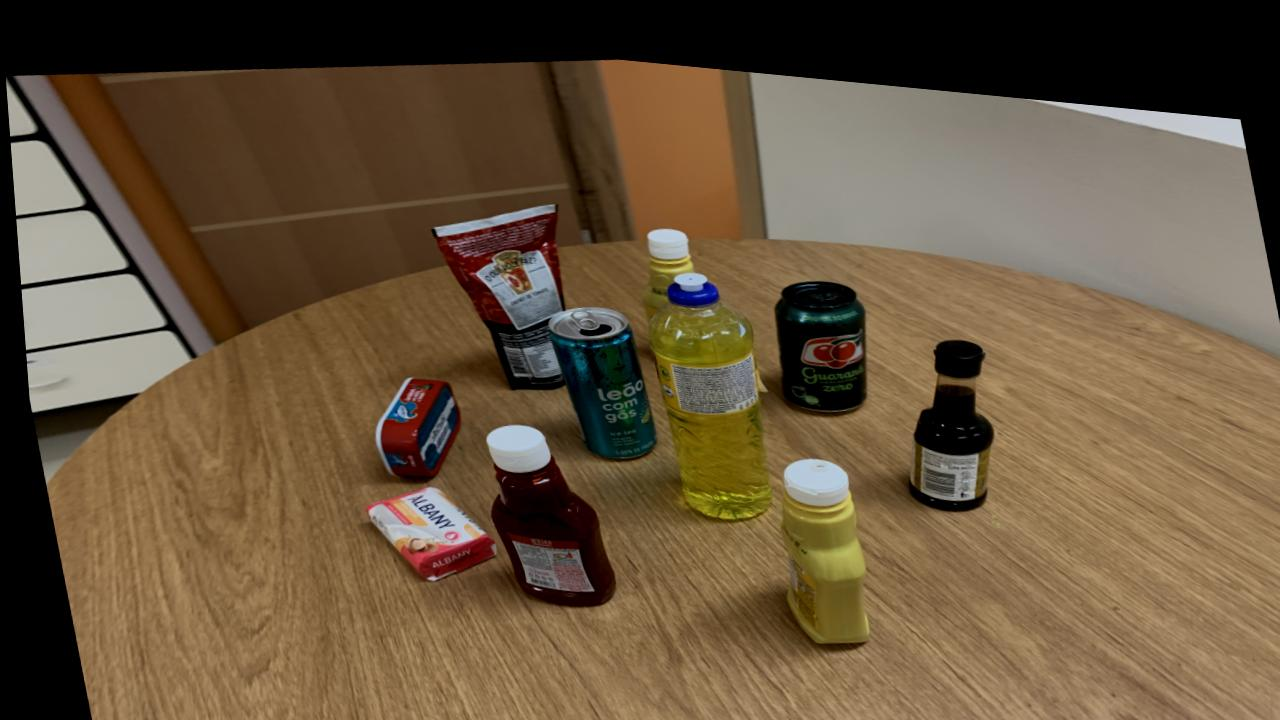Detergent-Cleanup_Items: (644, 259, 766, 506)
English_Sauce-Pantry_Items: (903, 320, 990, 492)
Guarana_Can-Drinks: (770, 264, 863, 397)
Ketchup-Pantry_Items: (481, 415, 608, 595)
Mustard-Pantry_Items: (774, 443, 862, 629), (638, 215, 691, 307)
Soap-Cleanup_Items: (359, 478, 487, 573)
Tea-Drinks: (544, 296, 652, 447)
Tomato_Sauce-Pantry_Items: (429, 194, 561, 380)
Tuna_Can-Pantry_Items: (369, 370, 455, 470)
